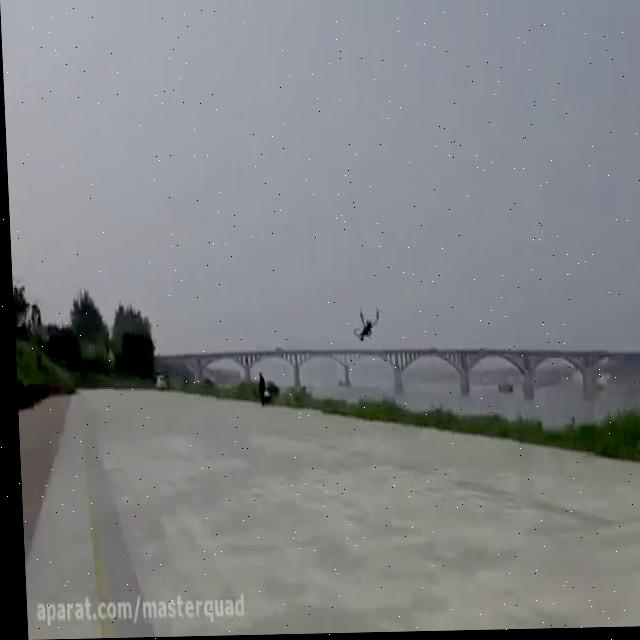drone: (346, 301, 381, 345)
